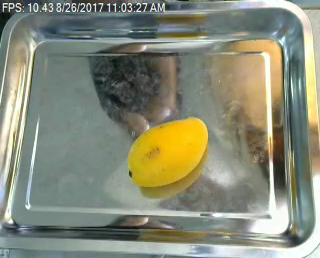Mango: (127, 112, 214, 189)
